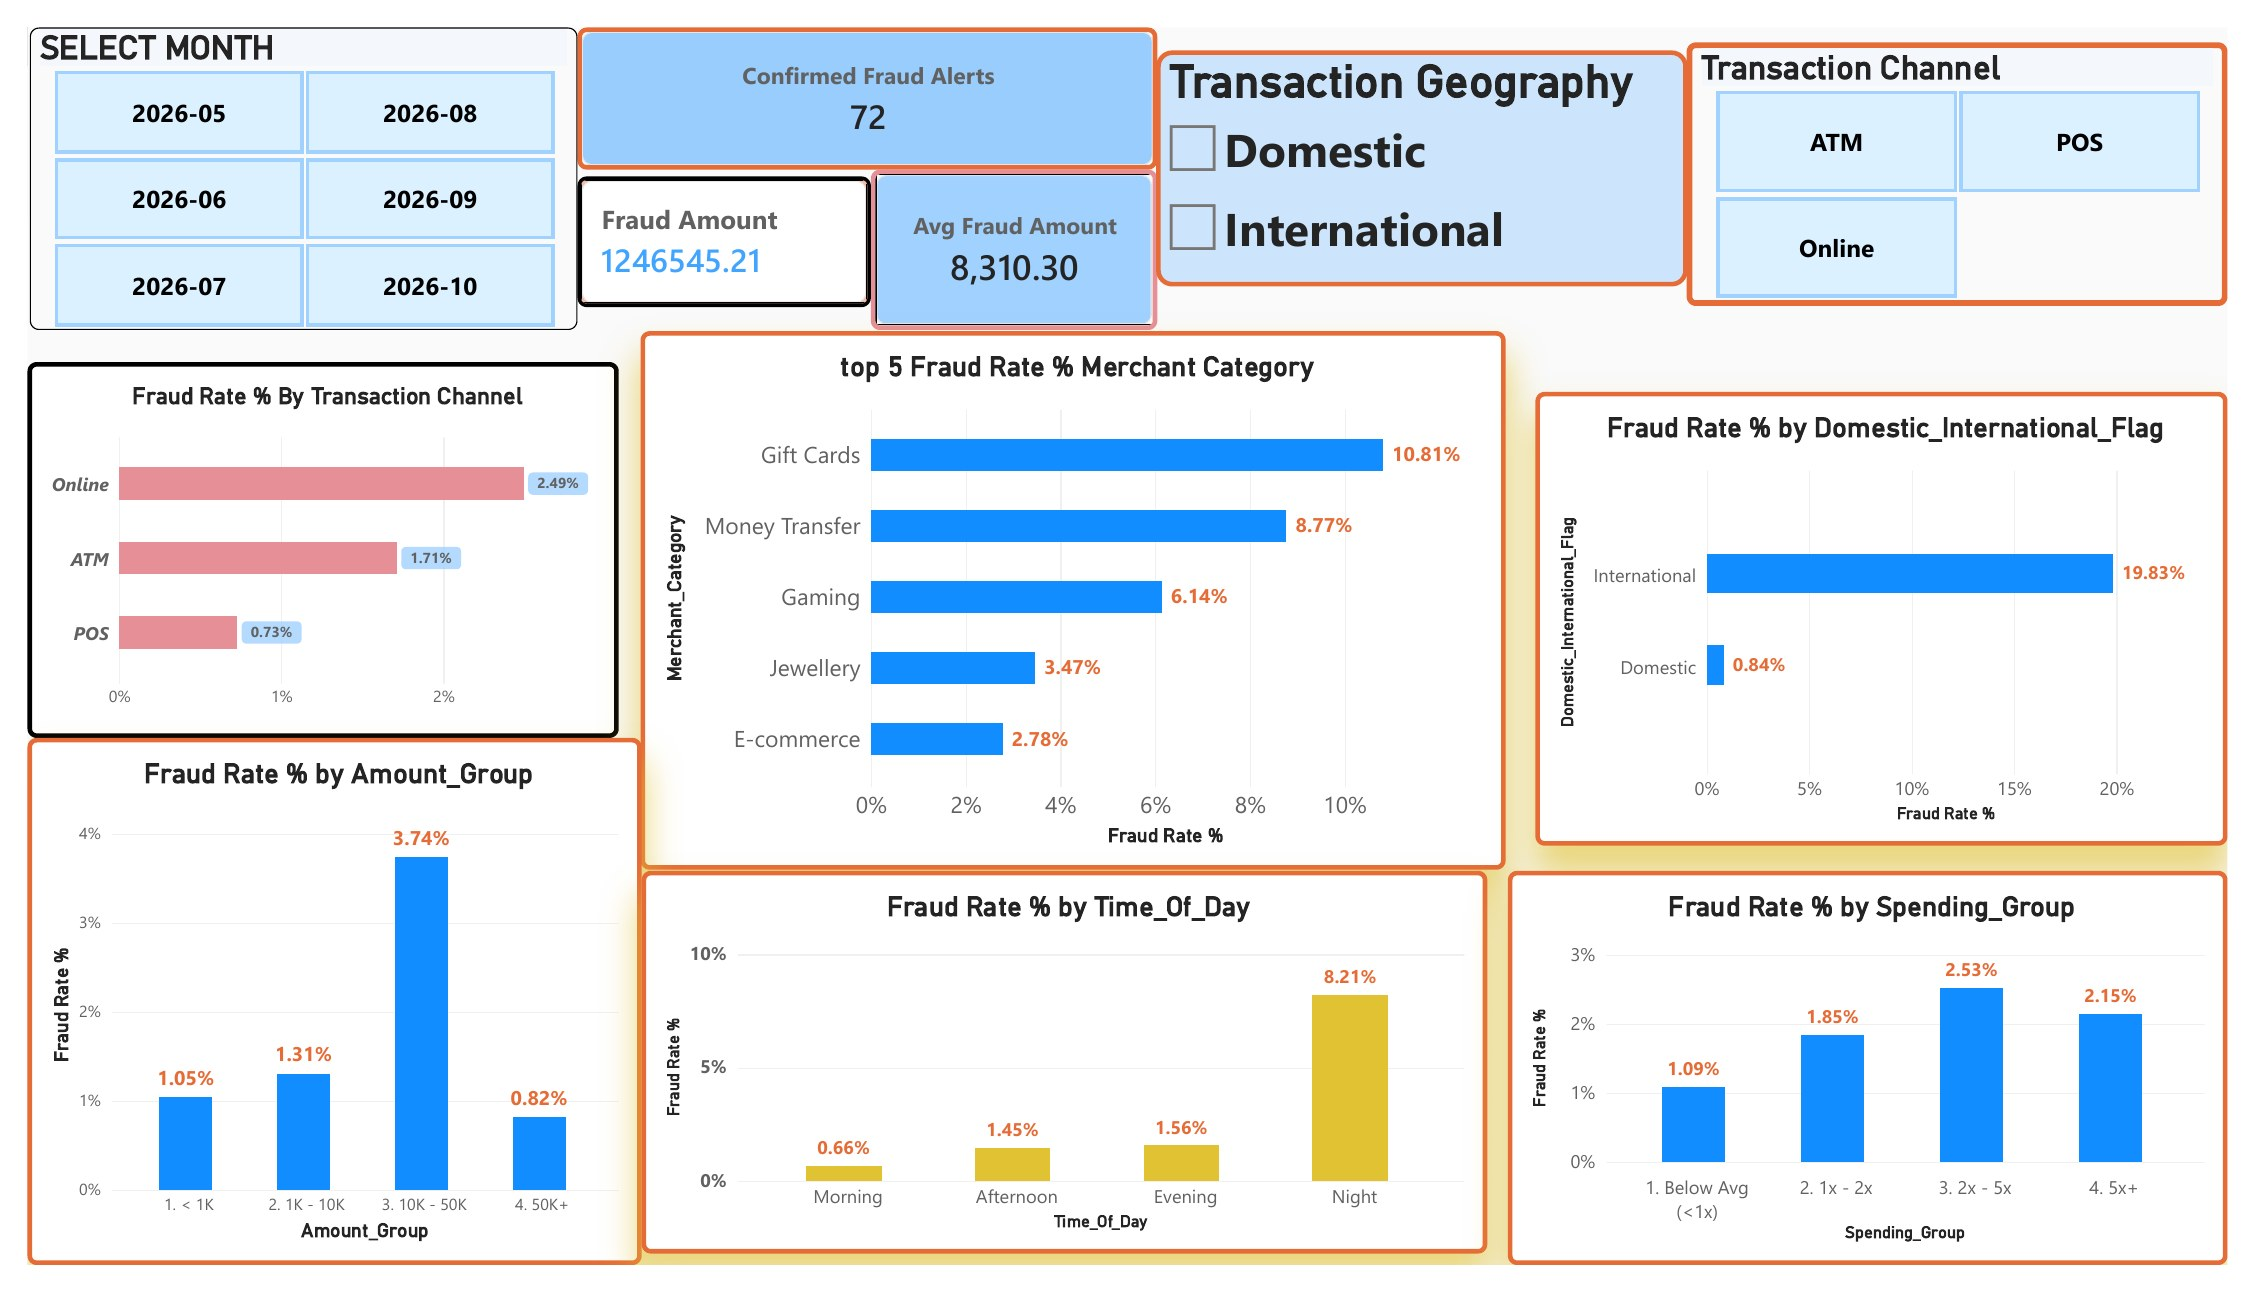

This screenshot's page, from the dashboard's own definition file:
{"tool":"powerbi","page":{"name":"Fraud Analysis","canvas":[1920,1080],"ordinal":2},"visuals":[{"type":"cardVisual","fields":{"Data":["cc.Confirmed Fraud Alerts"]},"box":[480,0,506,124],"z":0},{"type":"cardVisual","fields":{"Data":["cc.Avg Fraud Amount"]},"box":[736,124,250,140],"z":1000},{"type":"clusteredBarChart","title":"Fraud Rate % By Transaction Channel","fields":{"Category":["cc.Transaction_Channel"],"Y":["cc.Fraud Rate %"]},"box":[0,292,516,328],"z":2000},{"type":"clusteredBarChart","title":"top 5 Fraud Rate % Merchant Category","fields":{"Category":["cc.Merchant_Category"],"Y":["cc.Fraud Rate %"]},"box":[535,265,755,470],"z":3000},{"type":"clusteredBarChart","fields":{"Category":["cc.Domestic_International_Flag"],"Y":["cc.Fraud Rate %"]},"box":[1316,318,604,396],"z":4000},{"type":"clusteredColumnChart","fields":{"Category":["cc.Amount_Group"],"Y":["cc.Fraud Rate %"]},"box":[0,620,535.7,460],"z":5000},{"type":"clusteredColumnChart","fields":{"Category":["cc.Time_Of_Day"],"Y":["cc.Fraud Rate %"]},"box":[536,736,738,334],"z":6000},{"type":"clusteredColumnChart","fields":{"Category":["cc.Spending_Group"],"Y":["cc.Fraud Rate %"]},"box":[1292,736,628,344],"z":7000},{"type":"cardVisual","fields":{"Data":["cc.Fraud Amount"]},"box":[480,130,255.7,114.3],"z":8000},{"type":"slicer","fields":{"Values":["cc.Txn_Month"]},"box":[2,0,478.4,264.5],"z":9000},{"type":"slicer","fields":{"Values":["cc.Domestic_International_Flag"]},"box":[985,20,464,206],"z":10000},{"type":"slicer","fields":{"Values":["cc.Transaction_Channel"]},"box":[1448.3,13.3,471.7,230],"z":11000}]}

Visuals, with their boxes in screenshot pixels (x1, y1, x2, y2), scaled from the page's 1920x1080 canvas onto the 2255x1293 screenshot:
cardVisual - cc.Confirmed Fraud Alerts: Rect(564, 0, 1158, 148)
cardVisual - cc.Avg Fraud Amount: Rect(864, 148, 1158, 316)
"Fraud Rate % By Transaction Channel" clusteredBarChart: Rect(0, 350, 606, 742)
"top 5 Fraud Rate % Merchant Category" clusteredBarChart: Rect(628, 317, 1515, 880)
clusteredBarChart - cc.Domestic_International_Flag x cc.Fraud Rate %: Rect(1546, 381, 2254, 855)
clusteredColumnChart - cc.Amount_Group x cc.Fraud Rate %: Rect(0, 742, 629, 1292)
clusteredColumnChart - cc.Time_Of_Day x cc.Fraud Rate %: Rect(630, 881, 1496, 1281)
clusteredColumnChart - cc.Spending_Group x cc.Fraud Rate %: Rect(1517, 881, 2254, 1292)
cardVisual - cc.Fraud Amount: Rect(564, 156, 864, 292)
slicer - cc.Txn_Month: Rect(2, 0, 564, 317)
slicer - cc.Domestic_International_Flag: Rect(1157, 24, 1702, 271)
slicer - cc.Transaction_Channel: Rect(1701, 16, 2254, 291)
